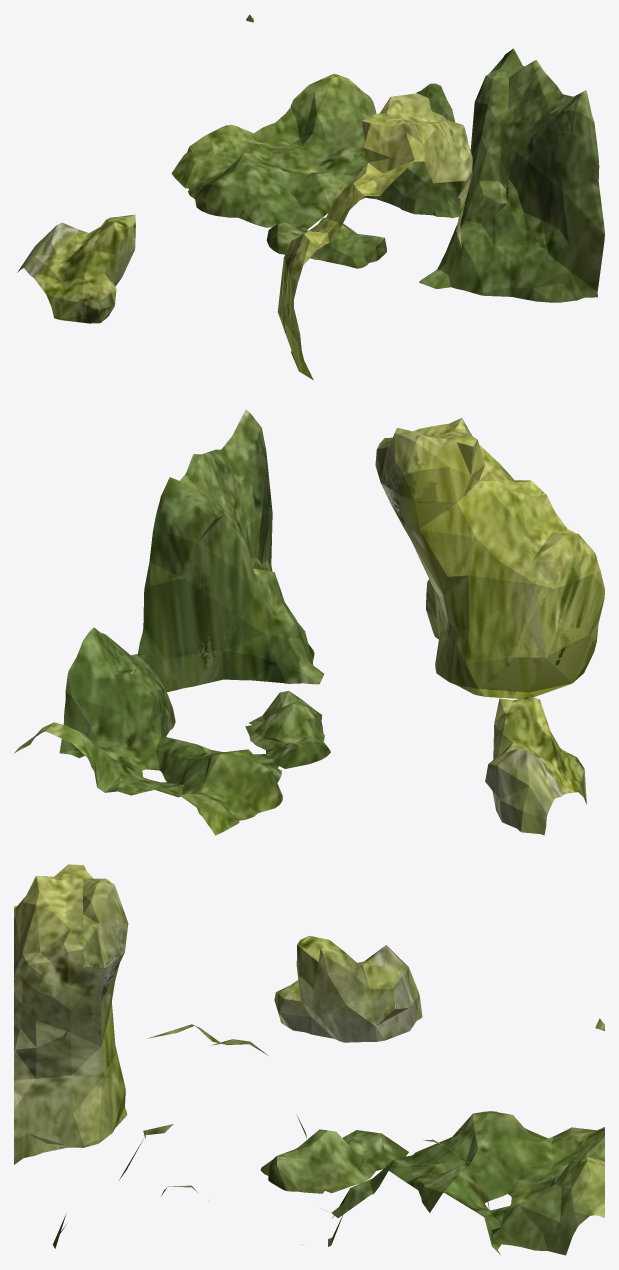
The picture shows the model from 3 angles, top to bottom: view 1: azimuth 30°, elevation 25°; view 2: azimuth 150°, elevation 25°; view 3: azimuth 270°, elevation 25°; orthographic projection. The views are drawn at different scales.
Size of the model in its own units: 2.95 by 1.49 by 2.95.
Materials: 2 (2 with a texture image).
